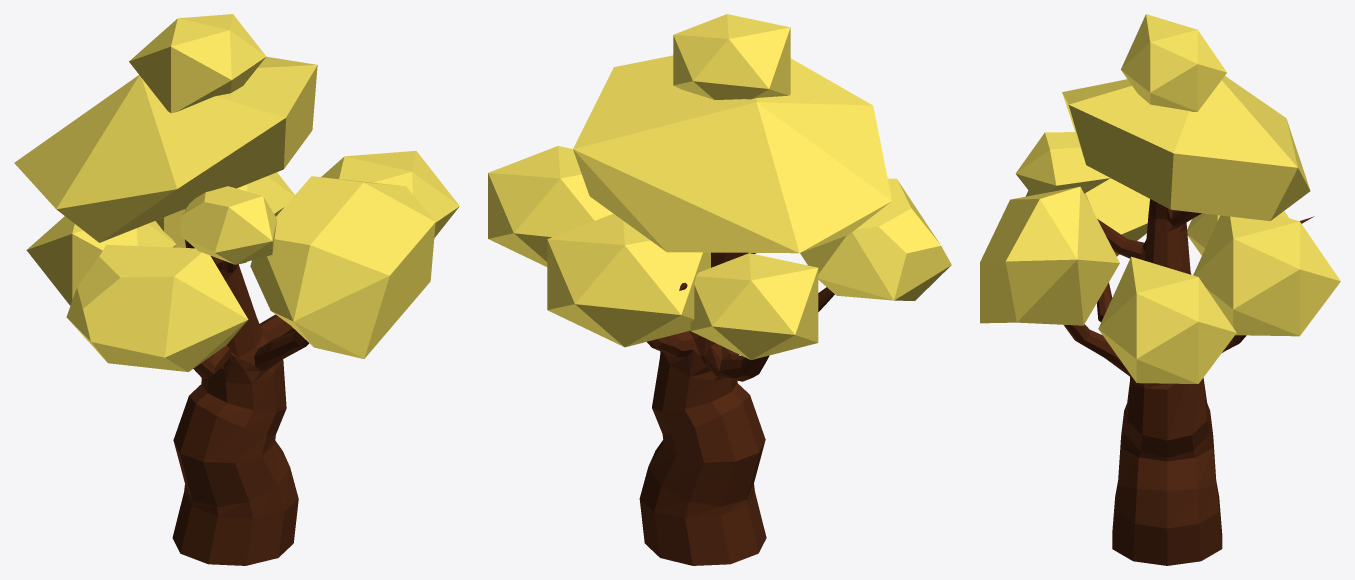
3 renders of one model, left to right at view 1: azimuth 30°, elevation 25°; view 2: azimuth 150°, elevation 25°; view 3: azimuth 270°, elevation 25°, orthographic. The views are drawn at different scales.
Visible parts, largest first — view 1: Sphere006, Cylinder003; view 2: Sphere006, Cylinder003; view 3: Sphere006, Cylinder003.
Boxes of the visible parts, bbox=[...] form: Sphere006: bbox=[14, 14, 459, 371]; Cylinder003: bbox=[172, 209, 309, 565]; Sphere006: bbox=[488, 14, 951, 359]; Cylinder003: bbox=[639, 252, 834, 565]; Sphere006: bbox=[980, 14, 1340, 383]; Cylinder003: bbox=[1063, 199, 1314, 565].
Size of the model in its own units: 536 by 659 by 437.
